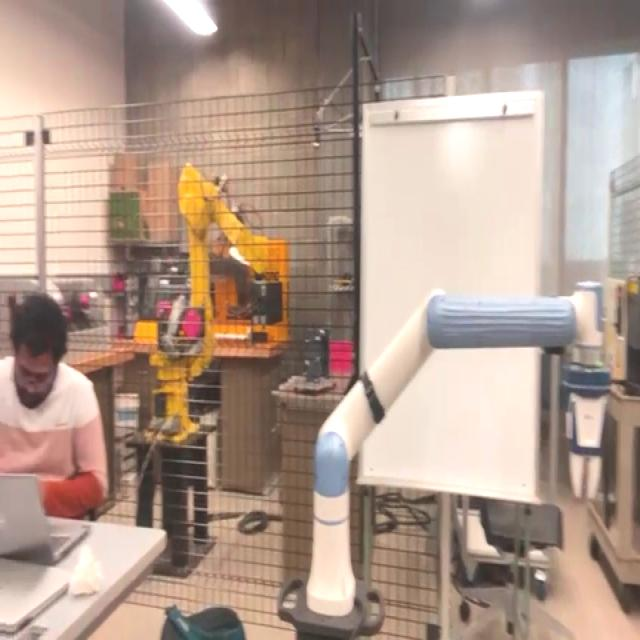robot: (276, 283, 592, 637)
